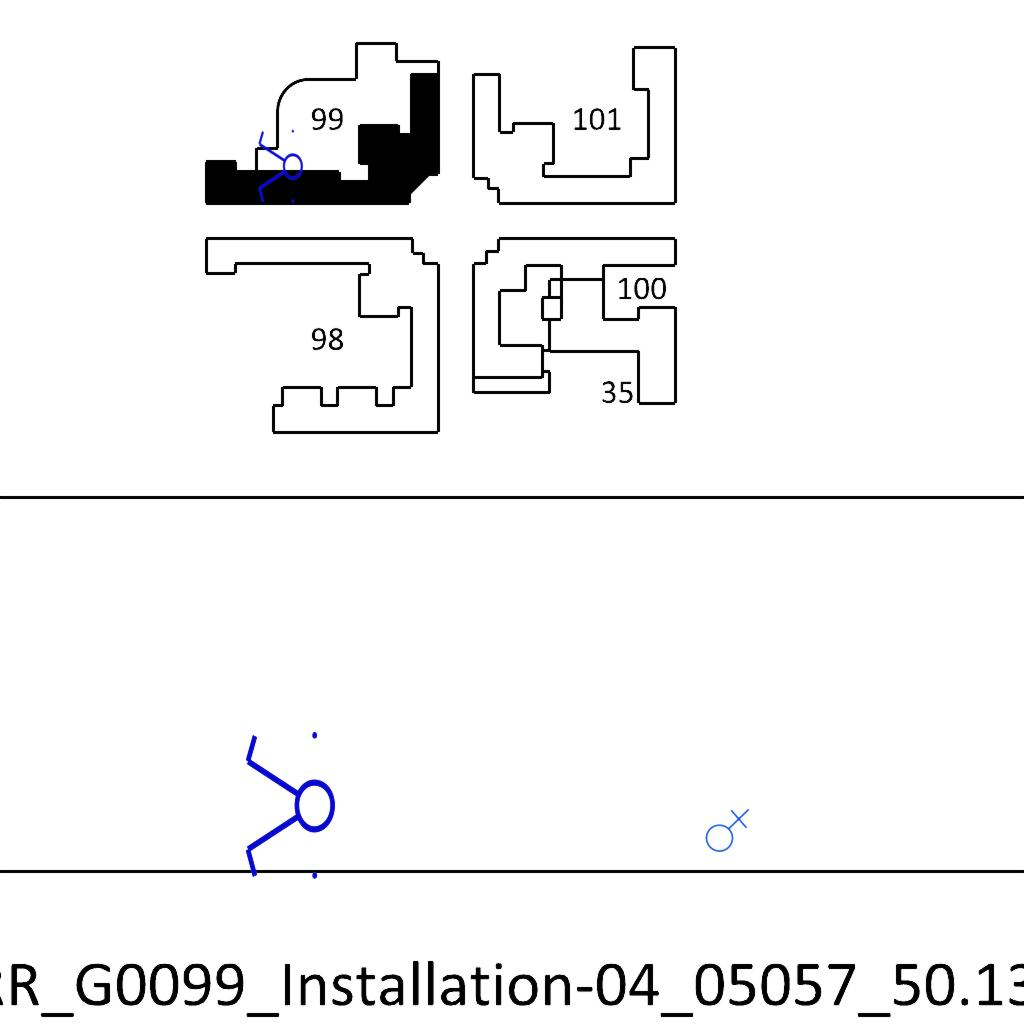Elektroanschluss_allgemein_230V_Geraeteanschlussdose_230V: (701, 806, 750, 853)
Serienschalter: (241, 723, 337, 891), (256, 125, 304, 209)
